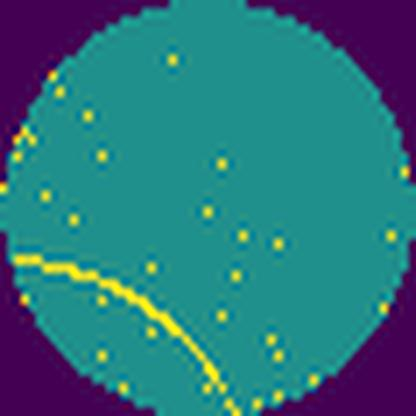Scratch: (8, 248, 230, 396)
